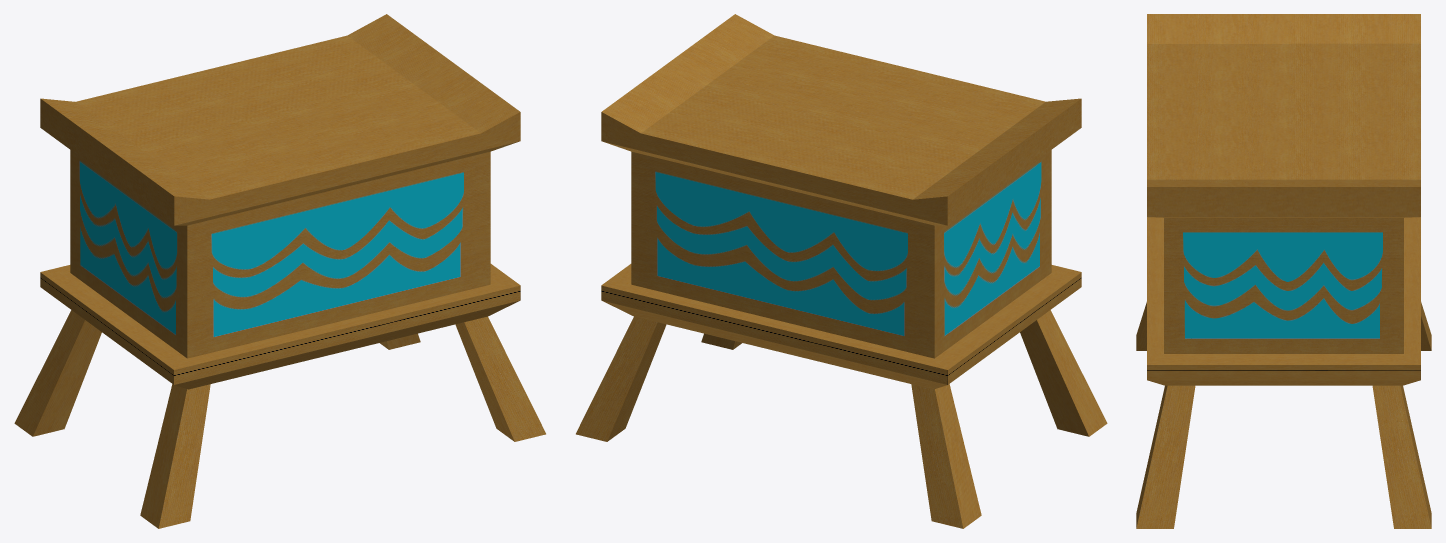
The model's file is Table.fbx.
3 views of the same model, side by side, from view 1: azimuth 30°, elevation 25°; view 2: azimuth 150°, elevation 25°; view 3: azimuth 270°, elevation 25° (orthographic). The views are drawn at different scales.
Parts seen in each view (by area): view 1: Cube; view 2: Cube; view 3: Cube.
Part boxes in pixels (<box>): Cube: <box>14,14,545,528</box>; Cube: <box>576,14,1107,528</box>; Cube: <box>1136,14,1431,528</box>.
Size of the model in its own units: 2.56 by 2.04 by 1.65.
